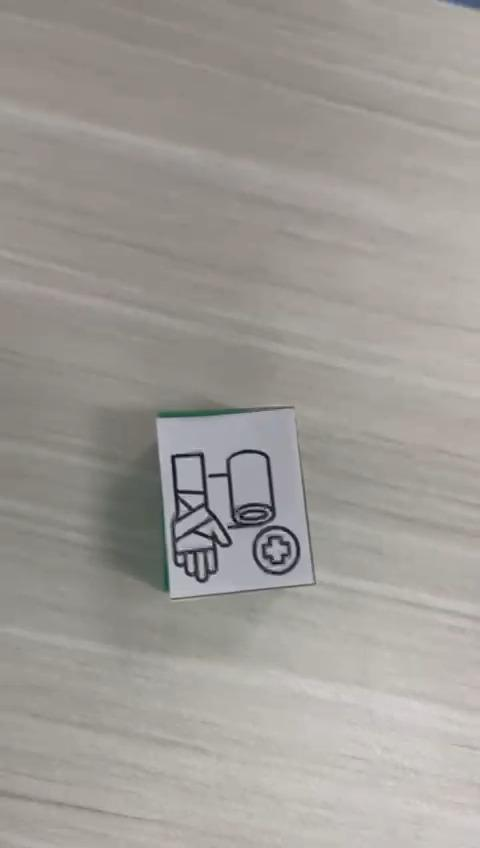Bandages: (156, 405, 317, 600)
